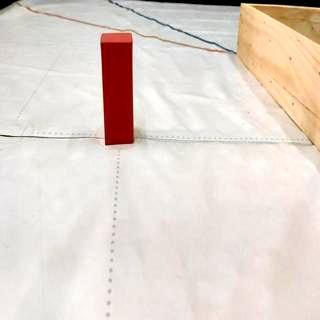redbox: (100, 32, 134, 146)
